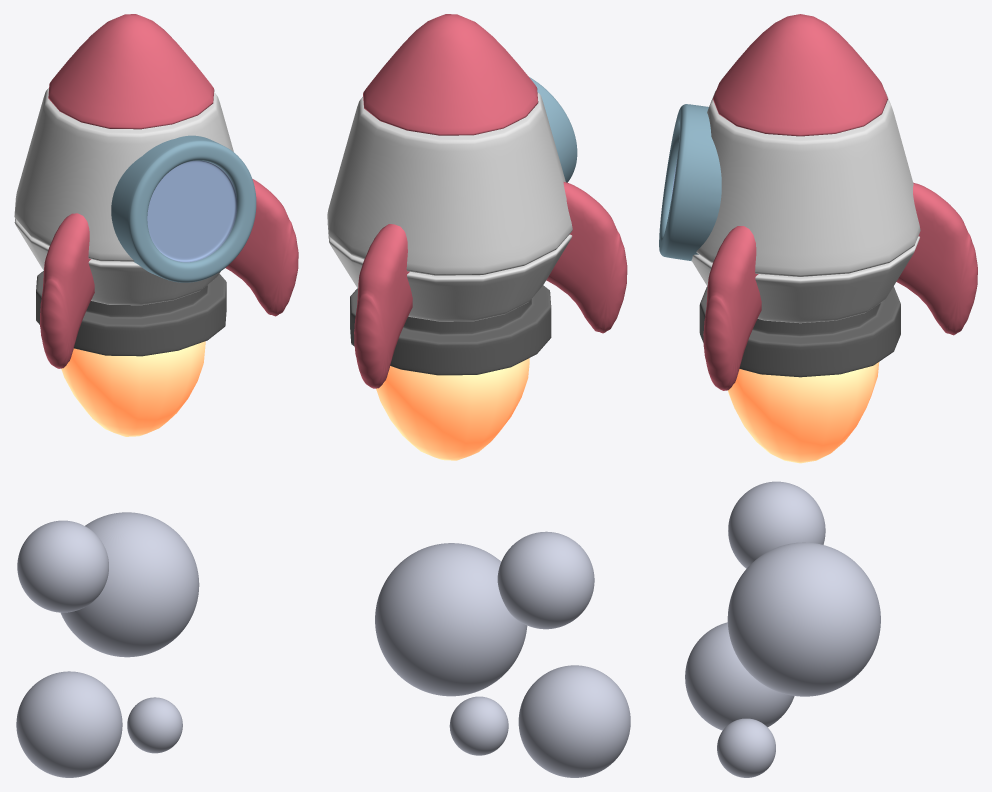
File: fusee.gltf
The picture shows the model from 3 angles, left to right: view 1: azimuth 30°, elevation 25°; view 2: azimuth 150°, elevation 25°; view 3: azimuth 270°, elevation 25°; orthographic projection. The views are drawn at different scales.
Parts seen in each view (by area): view 1: Sphere.001; view 2: Sphere.001; view 3: Sphere.001.
Part boxes in pixels (box(x1,y1,x2,y2)): Sphere.001: box(14, 14, 298, 777); Sphere.001: box(327, 14, 630, 777); Sphere.001: box(659, 14, 977, 777).
Size of the model in its own units: 3.26 by 8.48 by 3.23.
